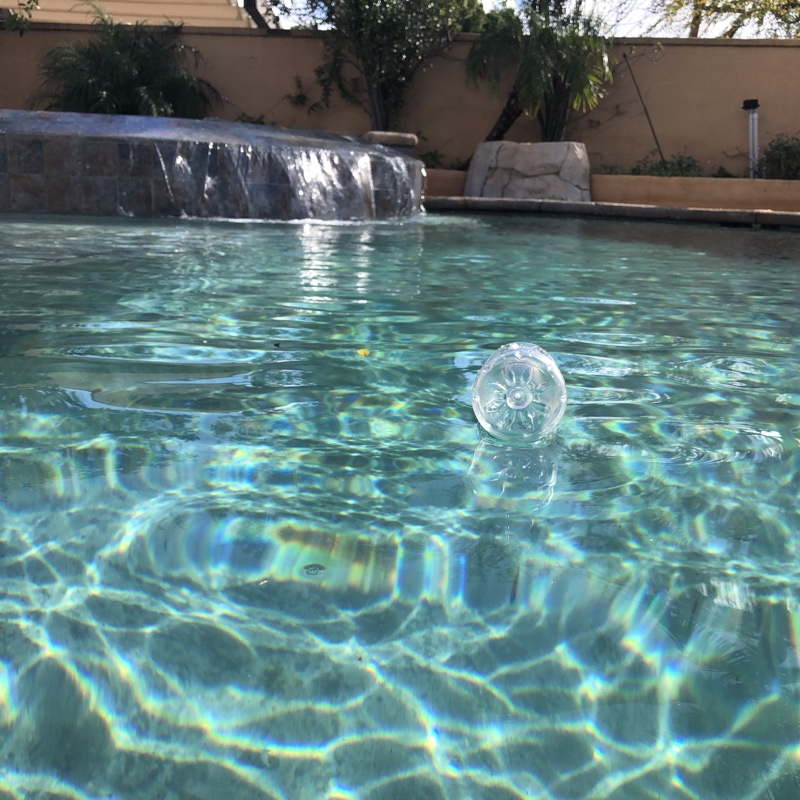Plastic Bottle: (469, 338, 568, 448)
